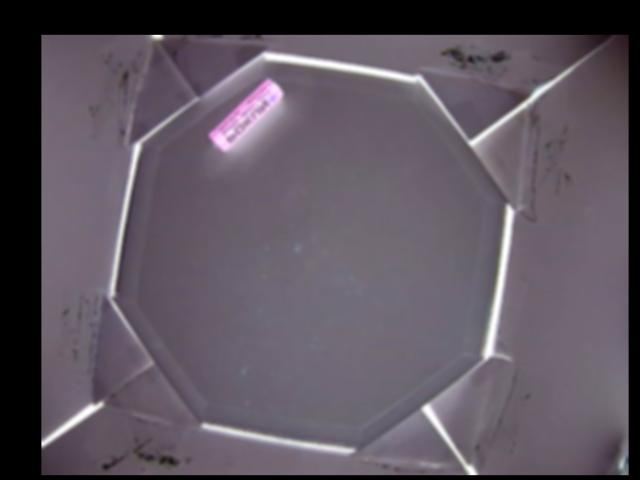Battery: (207, 77, 286, 151)
